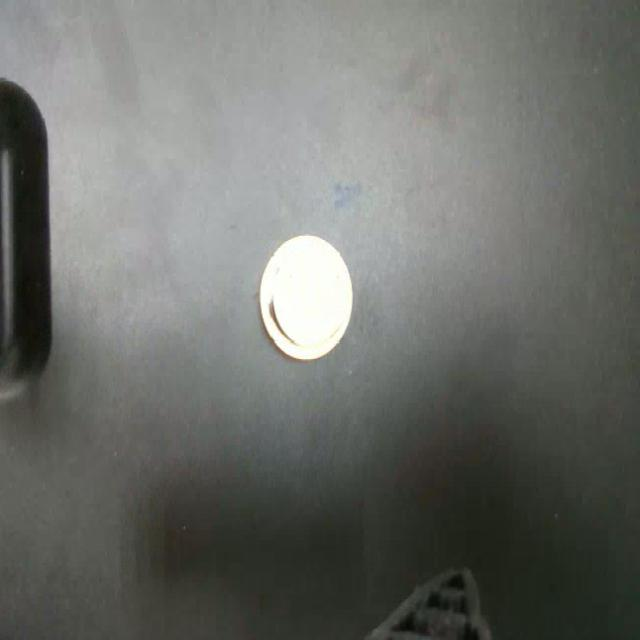sensor: (258, 232, 355, 360)
